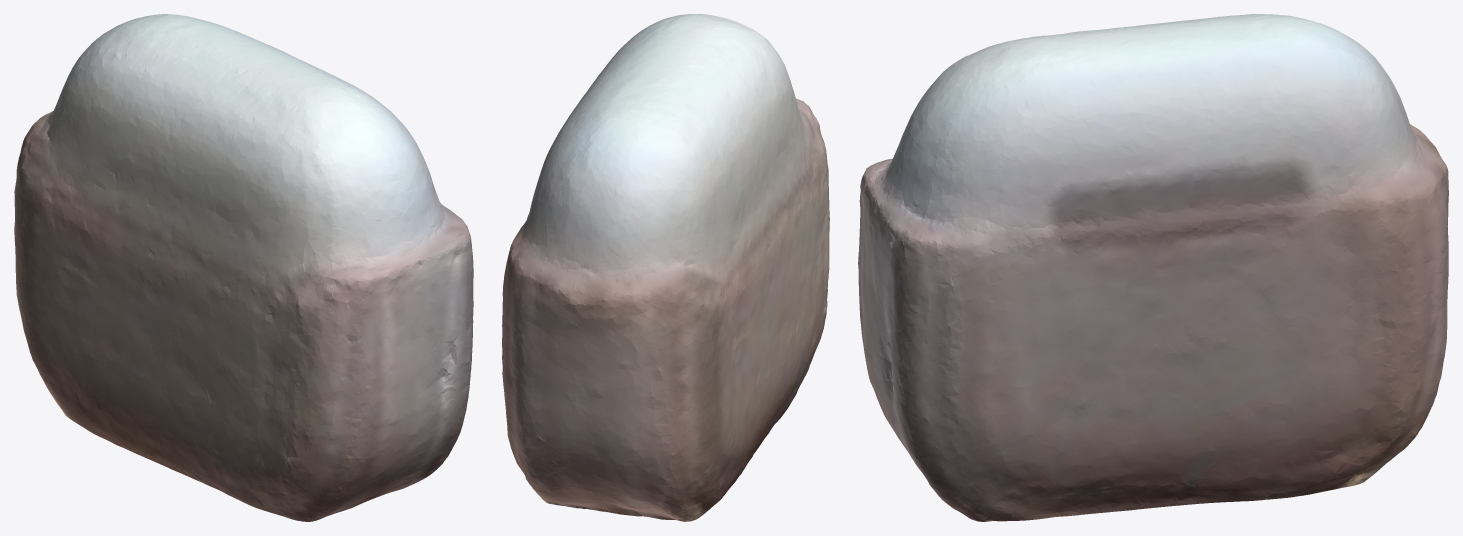
The model's file is airpod.glb.
3 renders of one model, left to right at view 1: azimuth 30°, elevation 25°; view 2: azimuth 150°, elevation 25°; view 3: azimuth 270°, elevation 25°, orthographic. The views are drawn at different scales.
Parts seen in each view (by area): view 1: Node1; view 2: Node1; view 3: Node1.
Boxes of the visible parts, box(x1,y1,x2,y2) form: Node1: box(14, 14, 473, 521); Node1: box(502, 14, 829, 521); Node1: box(858, 14, 1448, 521).
Size of the model in its own units: 0.00709 by 0.00969 by 0.012.
1 material, 1 textured.
